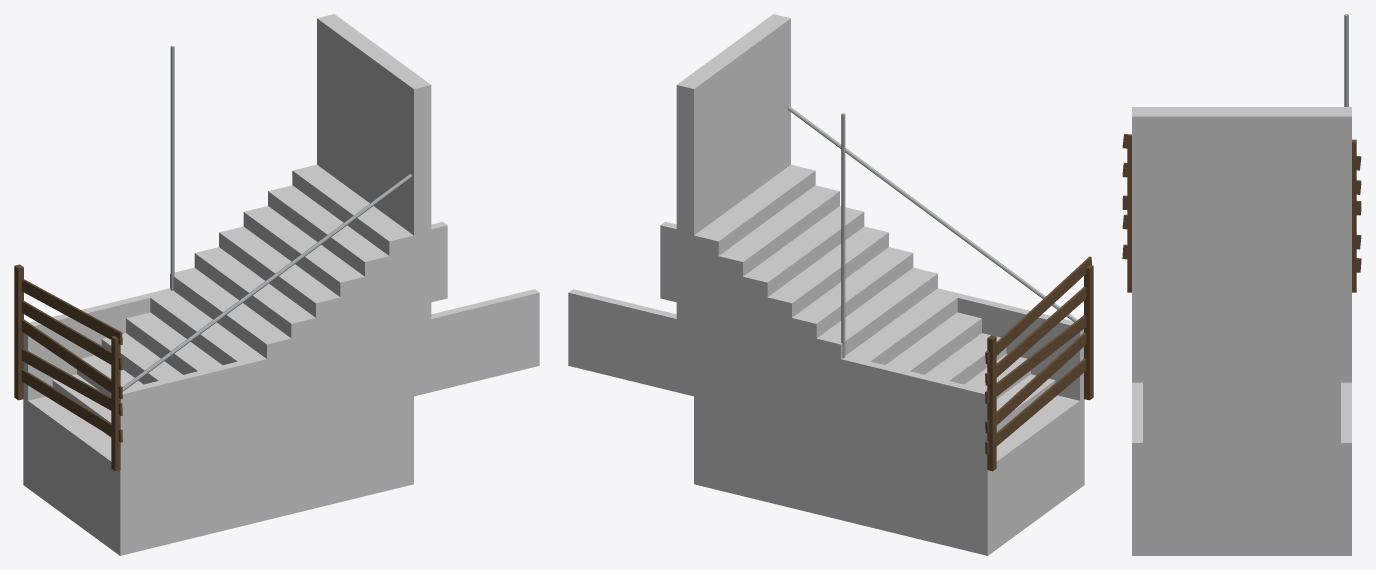
The model's file is stairs_barricaded.glb.
3 views of the same model, side by side, from view 1: azimuth 30°, elevation 25°; view 2: azimuth 150°, elevation 25°; view 3: azimuth 270°, elevation 25° (orthographic). The views are drawn at different scales.
Parts seen in each view (by area): view 1: mauer, wange-1, stufe0, stufe11, stufe10, stufe9, stufe8, stufe7, stufe6, stufe5, stufe4, stufe3 (+12 smaller); view 2: wange1, mauer, stufe0, stufe11, stufe10, stufe9, stufe8, stufe7, stufe6, stufe5, stufe4, stufe3 (+12 smaller); view 3: mauer, stufe11, wange-1, wange1, pfosten-1, pfosten1, handlauf1.
Part boxes in pixels (<box>): mauer: <box>317,14,431,396</box>; wange-1: <box>120,289,539,467</box>; stufe0: <box>23,396,144,555</box>; stufe11: <box>292,164,413,490</box>; stufe10: <box>268,185,389,495</box>; stufe9: <box>243,206,364,501</box>; stufe8: <box>219,226,340,507</box>; stufe7: <box>194,247,315,513</box>; stufe6: <box>170,267,291,519</box>; stufe5: <box>146,288,266,525</box>; stufe4: <box>126,312,242,531</box>; stufe3: <box>101,333,217,537</box>; wange1: <box>568,289,987,467</box>; mauer: <box>676,14,790,395</box>; stufe0: <box>963,395,1084,555</box>; stufe11: <box>694,164,815,490</box>; stufe10: <box>718,185,839,495</box>; stufe9: <box>743,206,864,501</box>; stufe8: <box>767,226,888,507</box>; stufe7: <box>792,247,913,513</box>; stufe6: <box>816,267,937,519</box>; stufe5: <box>841,288,961,525</box>; stufe4: <box>865,312,981,531</box>; stufe3: <box>890,333,1006,537</box>; mauer: <box>1132,107,1351,465</box>; stufe11: <box>1132,466,1351,555</box>; wange-1: <box>1132,382,1142,525</box>; wange1: <box>1341,382,1351,525</box>; pfosten-1: <box>1127,142,1131,292</box>; pfosten1: <box>1352,139,1356,292</box>; handlauf1: <box>1344,14,1348,106</box>.
Bounding box in the file's own units: 6.1 × 5.53 × 2.6.
